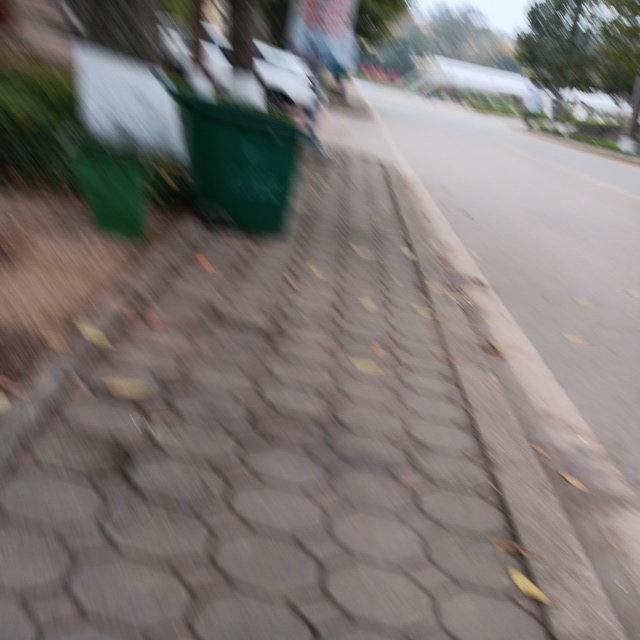thungrac: (182, 96, 302, 240), (67, 129, 155, 246)
